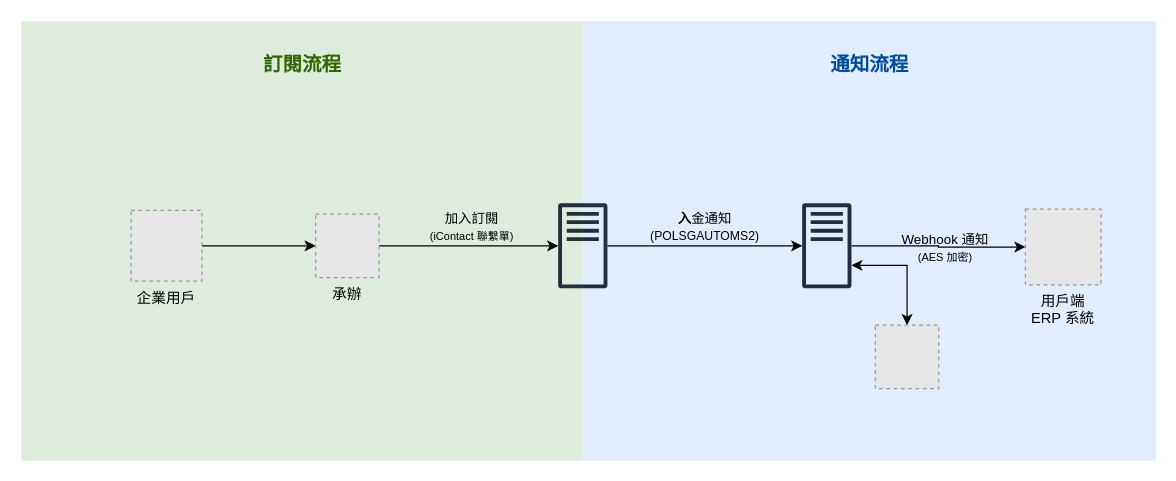
This 1176x481 diagram has some shape labels left out. Grey dashed boxes stand in for pictures. Here are the shapes that lost their labels. From the top down, the centre of each, then its label:
At [582,245]: "新加坡 IFX".
At [826,245]: "企金 中台".
